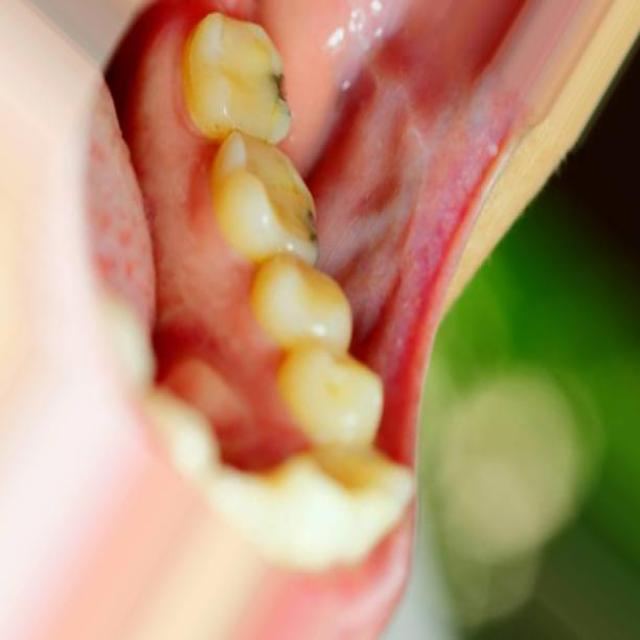caries: (261, 42, 301, 121), (295, 182, 329, 259)
